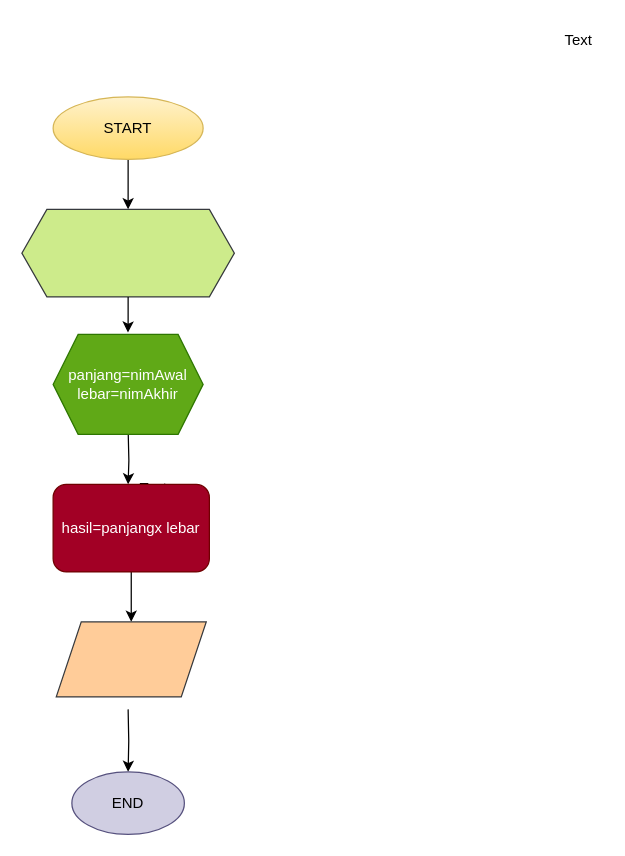
This 625x856 diagram has some shape labels left out. The centre of each missing label's shape, as x and y in pixels:
"nim=24241184 nimAwal=24 nimAkhir=84" belongs at (x=127, y=252).
"tampilkan hasil" belongs at (x=130, y=659).
